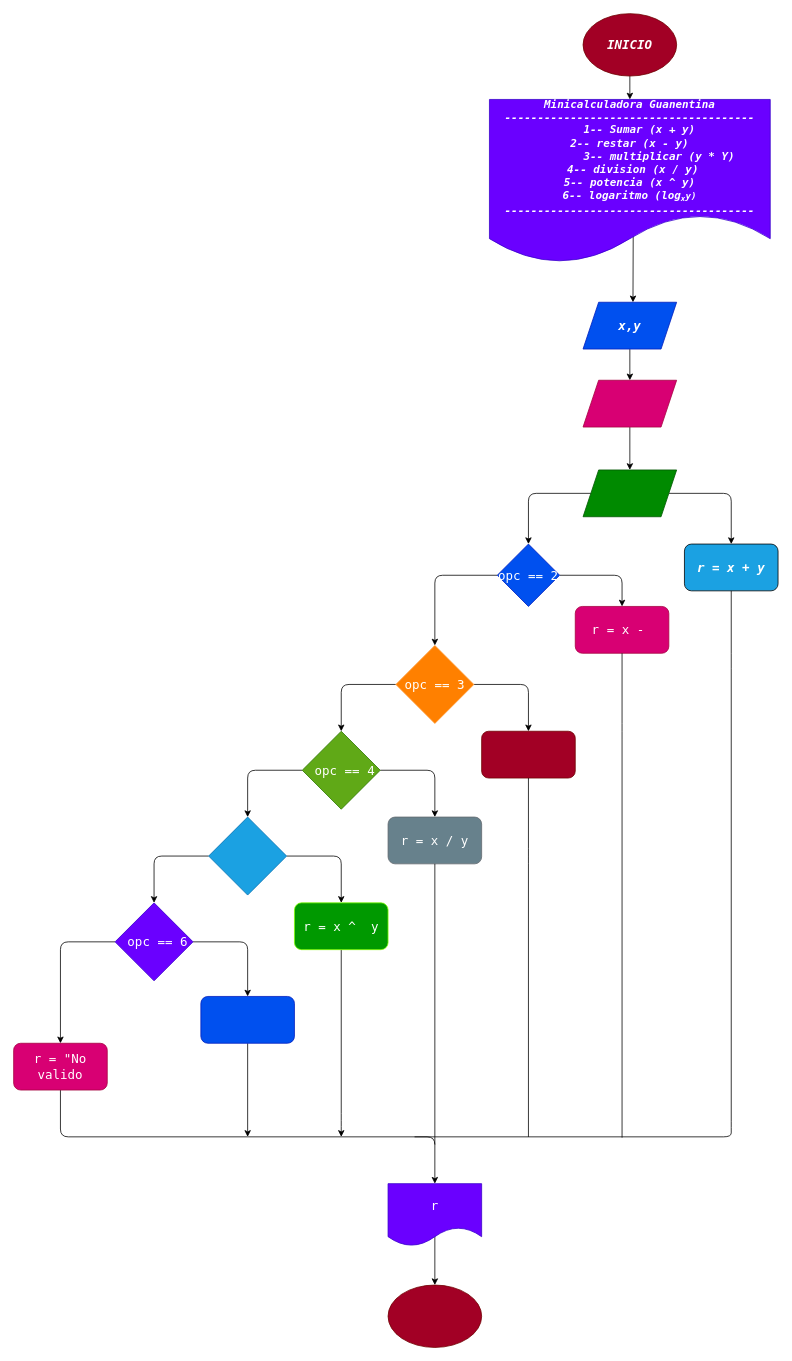
This 792x1361 diagram has some shape labels left out. Here are the shapes that lost their labels. From the top down, the centre of each, then its label:
At (x=629, y=403): "opc".
At (x=629, y=493): "opc == 1".
At (x=528, y=754): "r = x * y".
At (x=247, y=855): "opc == 5".
At (x=247, y=1019): "r = Log x y".
At (x=434, y=1315): "FIN".
